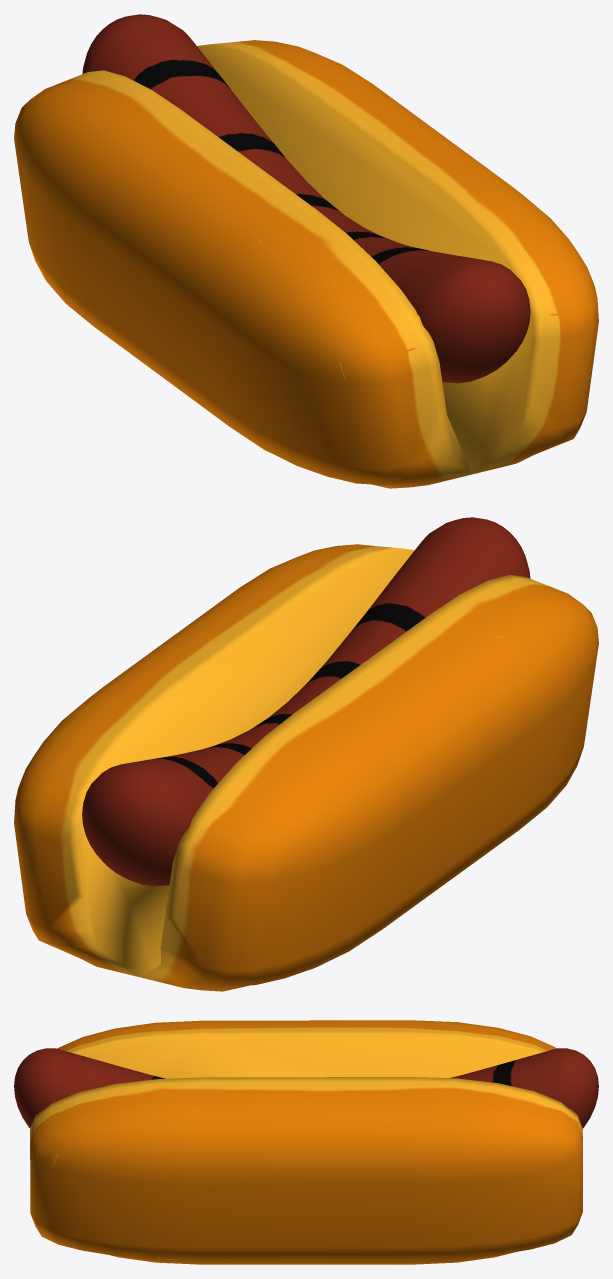
The model's file is hotdog.glb.
3 renders of one model, top to bottom at view 1: azimuth 30°, elevation 25°; view 2: azimuth 150°, elevation 25°; view 3: azimuth 270°, elevation 25°, orthographic. The views are drawn at different scales.
Visible parts, largest first — view 1: Cube, Sphere; view 2: Cube, Sphere; view 3: Cube, Sphere.
Part boxes in pixels (x1,y1,x2,y2): Cube: [14, 40, 598, 488]; Sphere: [82, 14, 530, 383]; Cube: [14, 544, 598, 991]; Sphere: [82, 517, 530, 886]; Cube: [30, 1020, 582, 1264]; Sphere: [14, 1048, 598, 1128].
Bounding box in the file's own units: 0.5558 × 0.4041 × 1.13.
2 materials, 2 textured.
